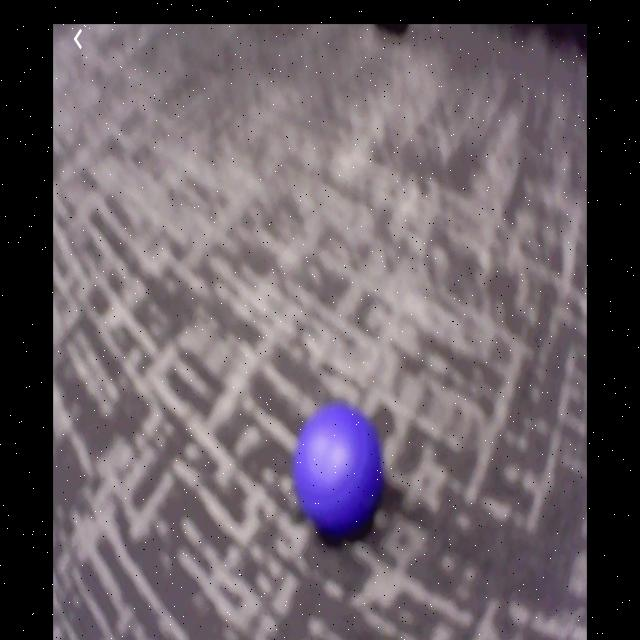ball: (295, 405, 383, 540)
